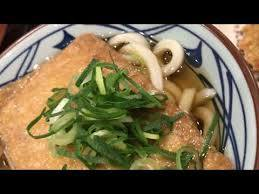kitune: (1, 24, 258, 170)
